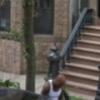stairs: (50, 16, 99, 100)
